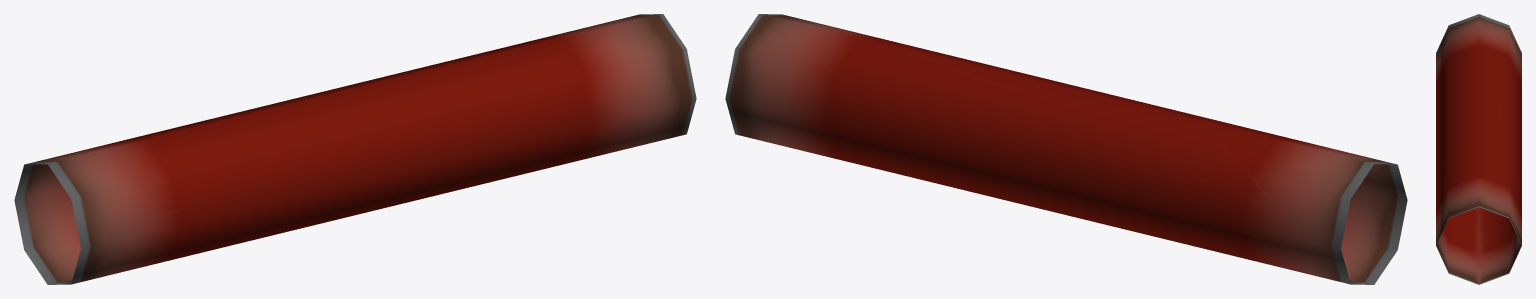
Rendered from pipe01_str_64a_low.fbx.
3 views of the same model, side by side, from view 1: azimuth 30°, elevation 25°; view 2: azimuth 150°, elevation 25°; view 3: azimuth 270°, elevation 25° (orthographic). The views are drawn at different scales.
Visible parts, largest first — view 1: pipe01_str_64a_low; view 2: pipe01_str_64a_low; view 3: pipe01_str_64a_low.
Part boxes in pixels (x1,y1,x2,y2): pipe01_str_64a_low: (14,14,696,284); pipe01_str_64a_low: (725,14,1407,284); pipe01_str_64a_low: (1436,14,1521,284).
Bounding box in the file's own units: 64 × 12 × 12.
